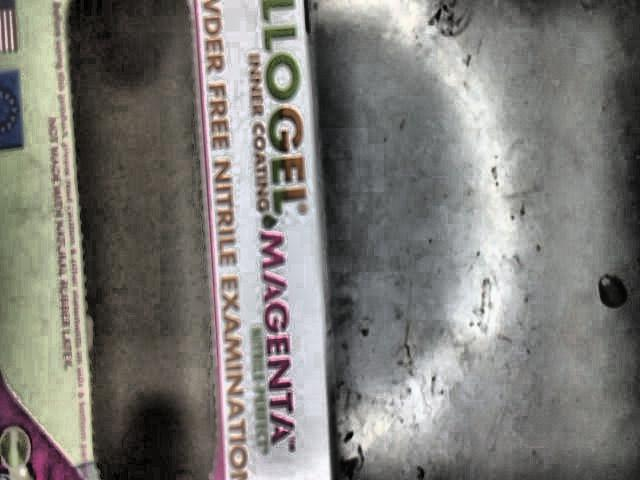Paper: (3, 0, 342, 479)
